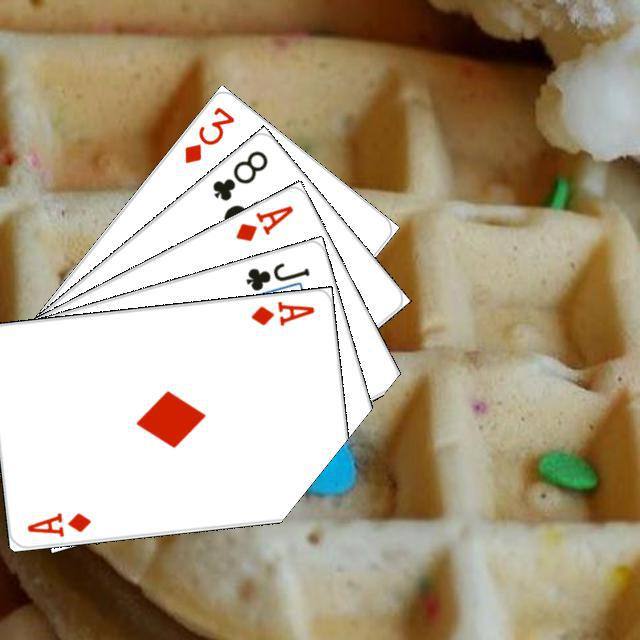3d: (179, 102, 237, 166)
8c: (207, 145, 270, 203)
Ad: (230, 200, 296, 244), (246, 296, 317, 328), (22, 508, 92, 539)
Jc: (240, 257, 312, 293)
